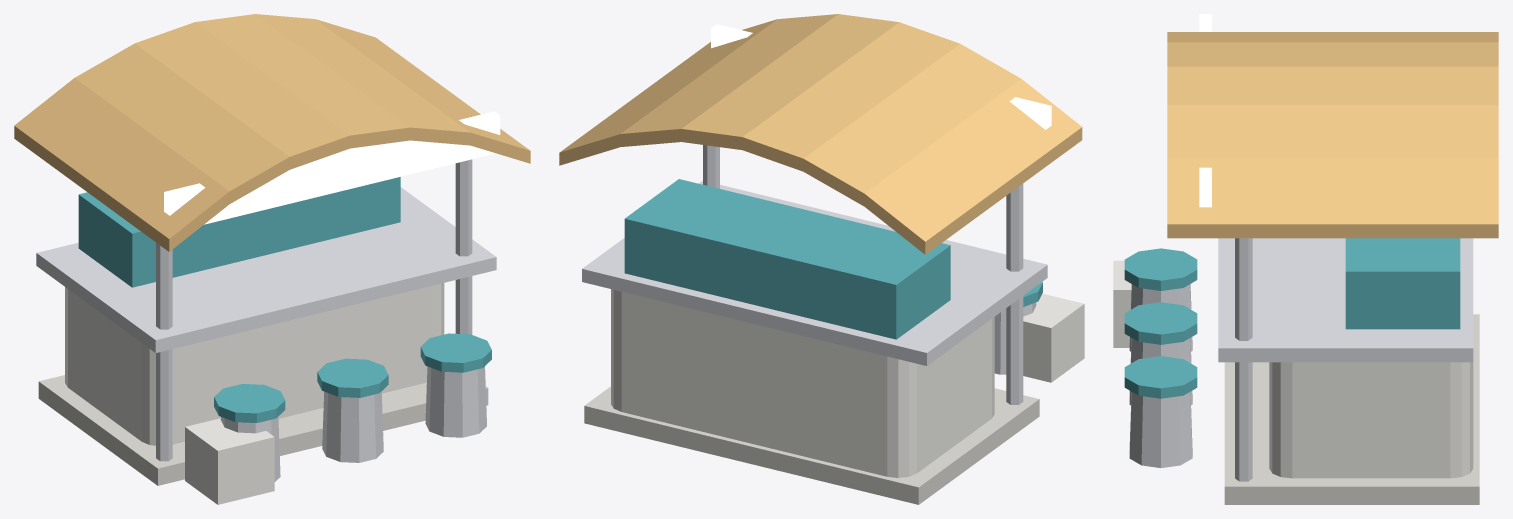
Rendered from arcology-towers-and-skyways-food-stall-478a50cf__23268.glb.
3 views of the same model, side by side, from view 1: azimuth 30°, elevation 25°; view 2: azimuth 150°, elevation 25°; view 3: azimuth 270°, elevation 25° (orthographic). The views are drawn at different scales.
Visible parts, largest first — view 1: food-stall; view 2: food-stall; view 3: food-stall.
Boxes of the visible parts, x1,y1,x2,y2 form: food-stall: (14,14,530,504); food-stall: (559,14,1084,504); food-stall: (1113,14,1498,504).
Size of the model in its own units: 3.5 by 3.05 by 3.03.
